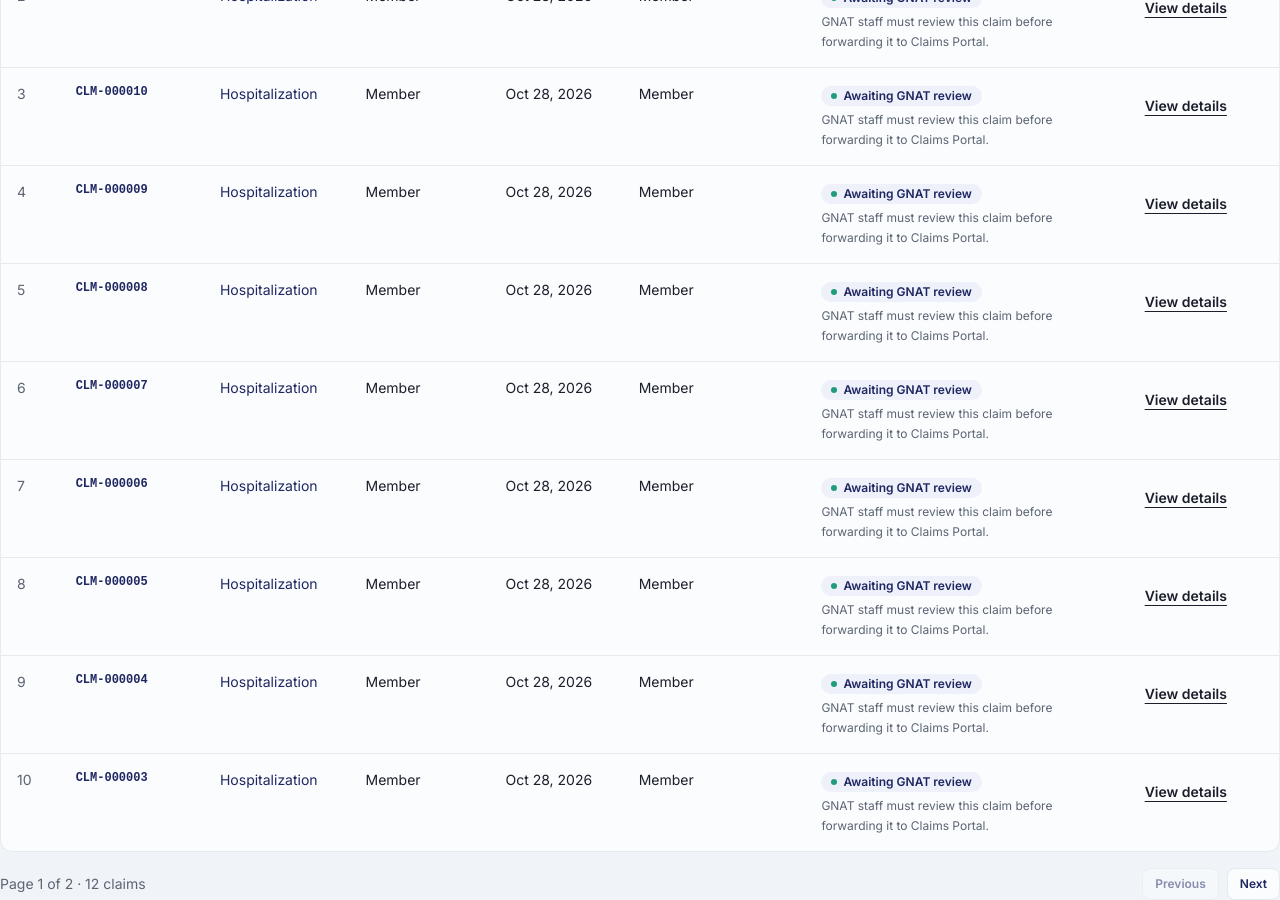
shows numbered member and staff submissions, sorting equal dates by descending ID
The width and height of the screenshot is (1280, 900).
(page scrolled)
expect the text "Member" is shown 2 times: met, box [350,0,490,68]; [623,0,805,68]
Click the button "Next" at point(1253, 884), box [1227,868,1279,899]
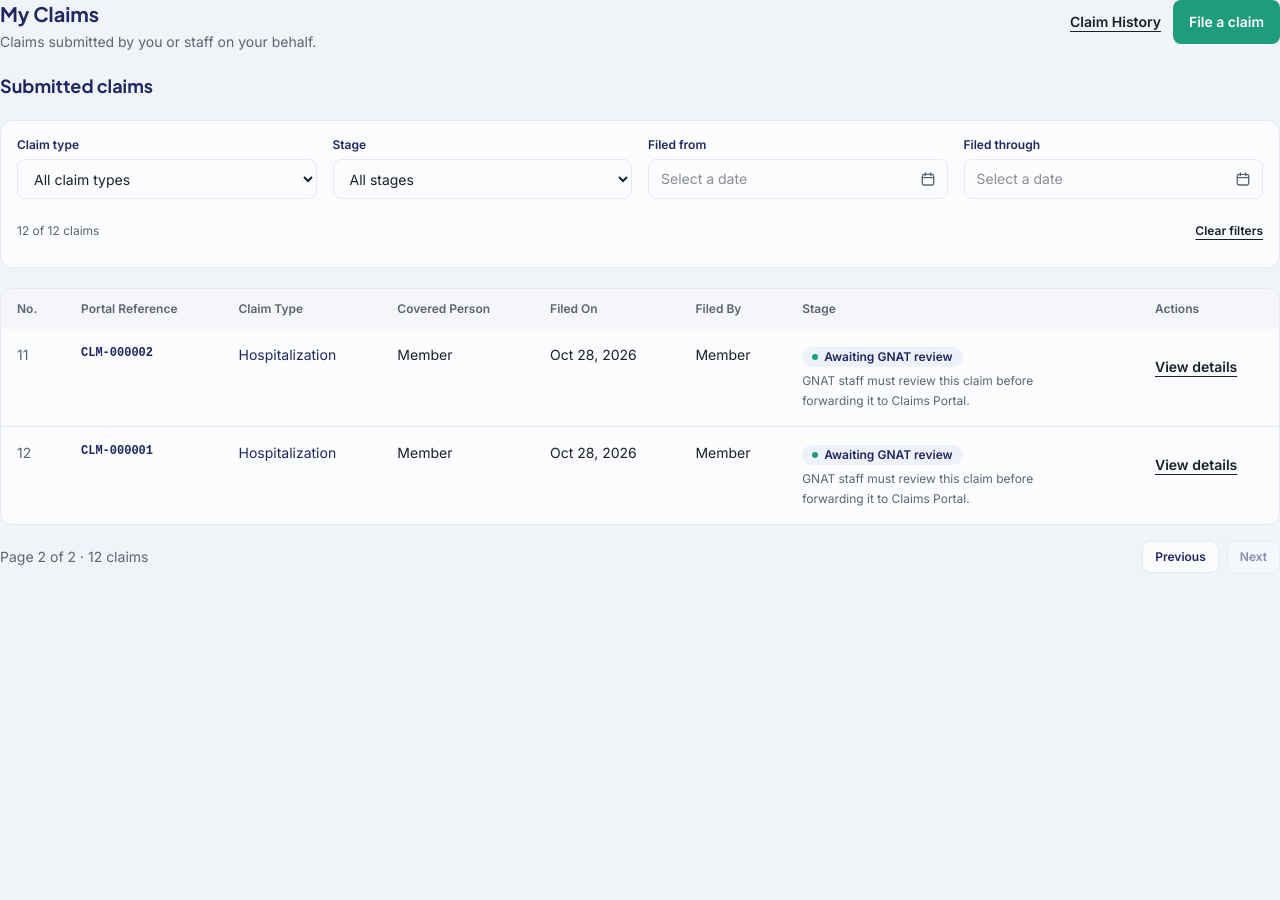
expect the number of rows is 3: met, box [1,289,1279,329]; [1,329,1279,426]; [1,426,1279,524]
expect the cell "11" is shown: met, box [1,329,65,426]
expect the column heading "CLM-000002" is shown: met, box [65,329,222,426]
